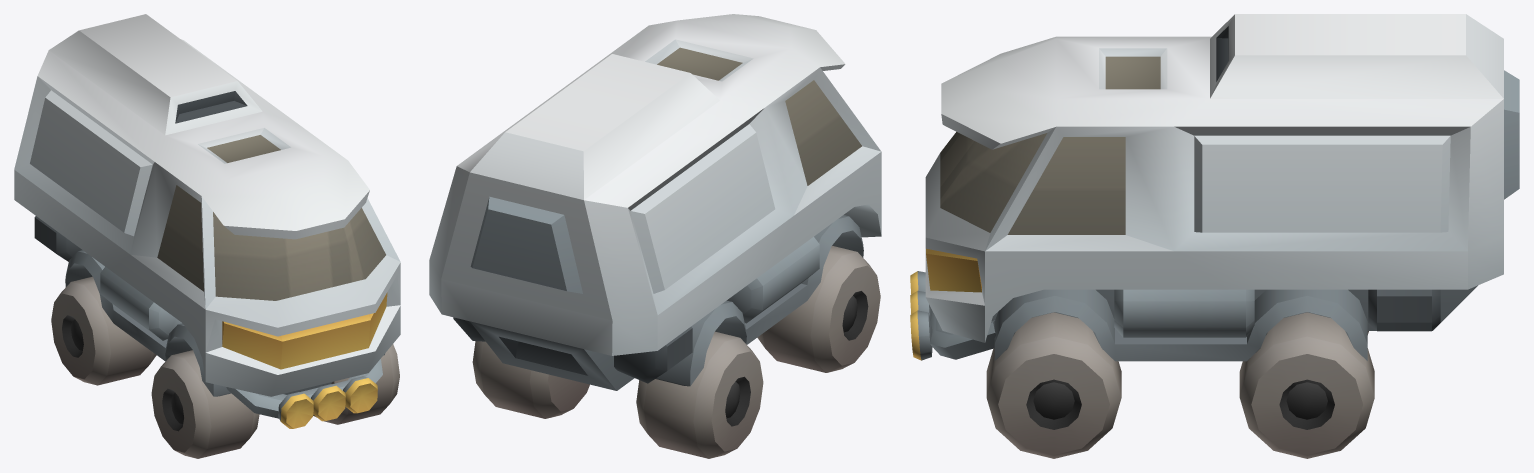
Rendered from spacetruck_large.gltf.
The picture shows the model from 3 angles, left to right: view 1: azimuth 30°, elevation 25°; view 2: azimuth 150°, elevation 25°; view 3: azimuth 270°, elevation 25°; orthographic projection. The views are drawn at different scales.
Parts seen in each view (by area): view 1: spacetruck_large, spacetruck_large_wheel_front_right, spacetruck_large_wheel_rear_right, spacetruck_large_wheel_front_left; view 2: spacetruck_large, spacetruck_large_wheel_rear_right, spacetruck_large_wheel_front_right, spacetruck_large_wheel_rear_left; view 3: spacetruck_large, spacetruck_large_wheel_front_left, spacetruck_large_wheel_rear_left.
Boxes of the visible parts, left/top/right/bottom form: spacetruck_large: left=14, top=14, right=400, bottom=428; spacetruck_large_wheel_front_right: left=151, top=350, right=259, bottom=458; spacetruck_large_wheel_rear_right: left=51, top=276, right=156, bottom=385; spacetruck_large_wheel_front_left: left=313, top=344, right=399, bottom=424; spacetruck_large: left=429, top=14, right=881, bottom=390; spacetruck_large_wheel_rear_right: left=636, top=331, right=763, bottom=458; spacetruck_large_wheel_front_right: left=757, top=245, right=880, bottom=372; spacetruck_large_wheel_rear_left: left=472, top=341, right=589, bottom=418; spacetruck_large: left=910, top=14, right=1519, bottom=361; spacetruck_large_wheel_front_left: left=986, top=312, right=1121, bottom=458; spacetruck_large_wheel_rear_left: left=1239, top=312, right=1374, bottom=458.
Size of the model in its own units: 0.5046 by 0.6855 by 1.03.
1 material, 1 textured.
